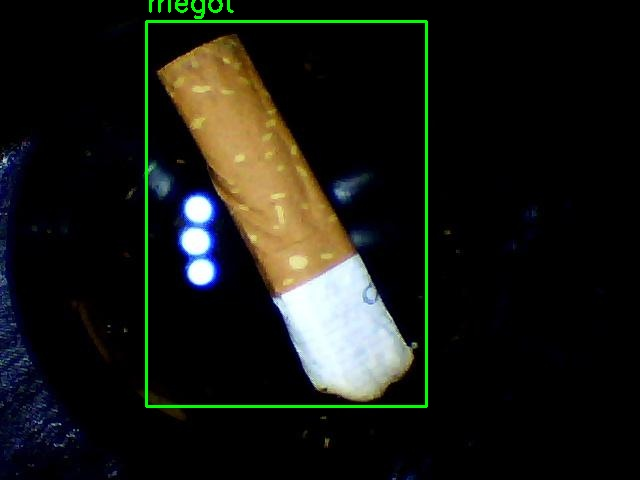megot: (146, 21, 426, 406)
